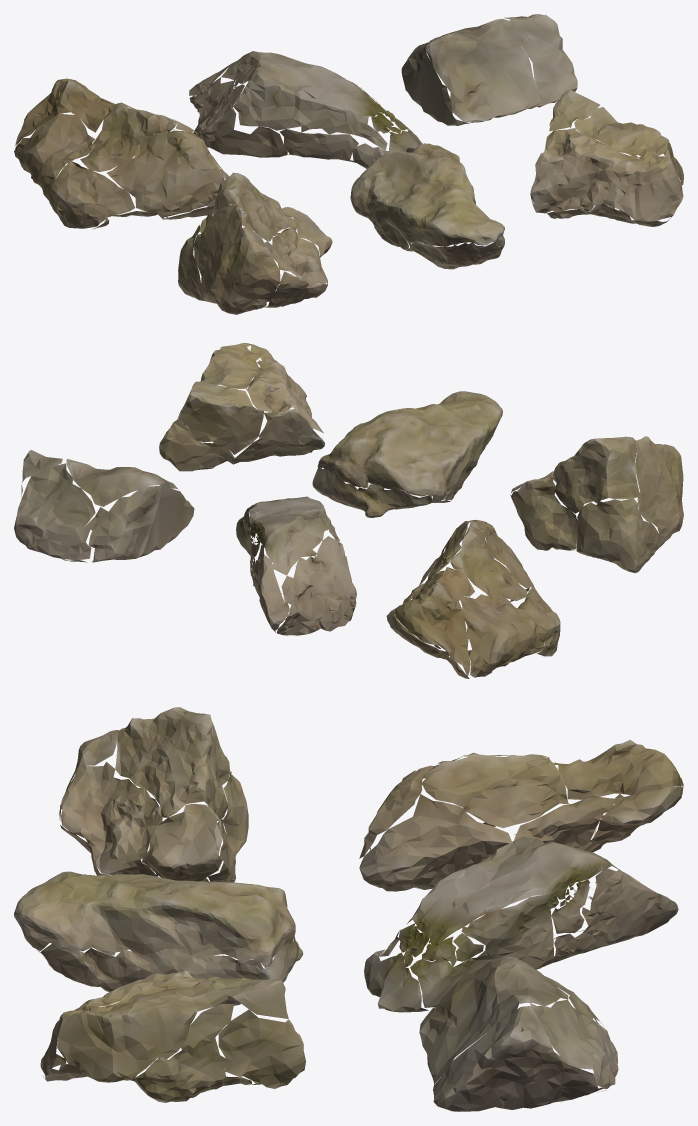
The model's file is rock_moss_set_01.glb.
The picture shows the model from 3 angles, top to bottom: view 1: azimuth 30°, elevation 25°; view 2: azimuth 150°, elevation 25°; view 3: azimuth 270°, elevation 25°; orthographic projection. The views are drawn at different scales.
Parts seen in each view (by area): view 1: geometry_0; view 2: geometry_0; view 3: geometry_0.
Boxes of the visible parts, x1=… form: geometry_0: x1=14, y1=14, x2=683, y2=314; geometry_0: x1=14, y1=343, x2=683, y2=678; geometry_0: x1=14, y1=707, x2=683, y2=1111.
Bounding box in the file's own units: 7.99 × 1.77 × 6.95.
